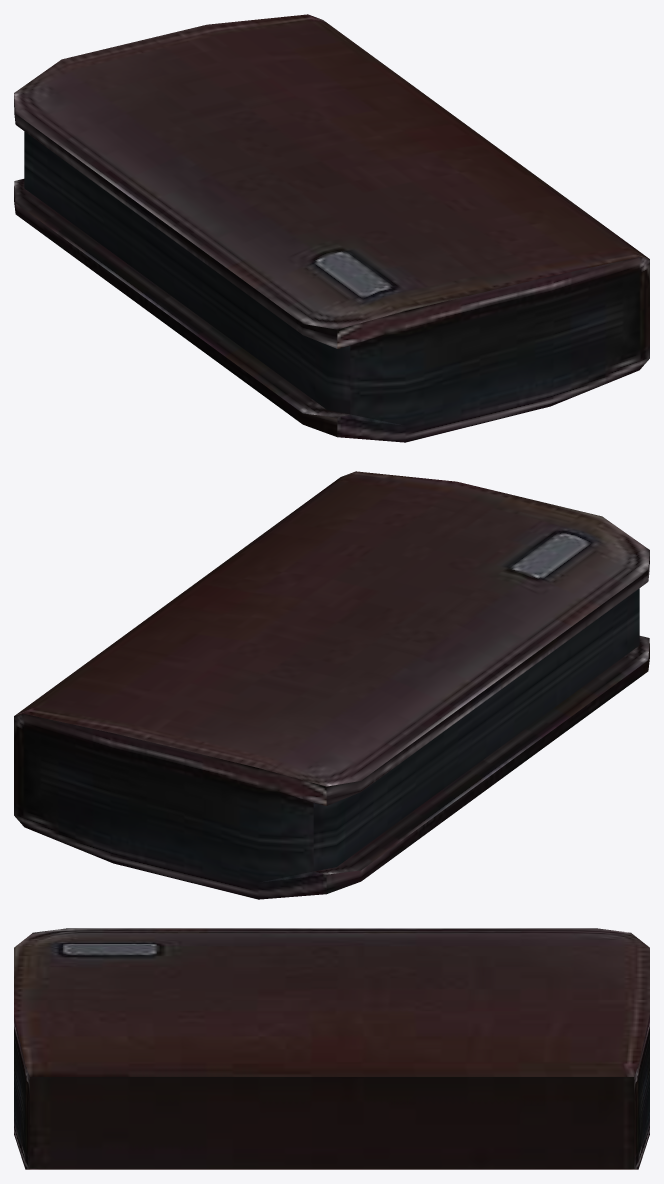
The model's file is cd_holder-3.FBX.
3 renders of one model, top to bottom at view 1: azimuth 30°, elevation 25°; view 2: azimuth 150°, elevation 25°; view 3: azimuth 270°, elevation 25°, orthographic. The views are drawn at different scales.
Visible parts, largest first — view 1: Line04; view 2: Line04; view 3: Line04.
Part boxes in pixels (x1,y1,x2,y2): Line04: (14,14,649,442); Line04: (14,471,649,899); Line04: (14,928,649,1169).
Bounding box in the file's own units: 8.21 × 3.15 × 14.93.
